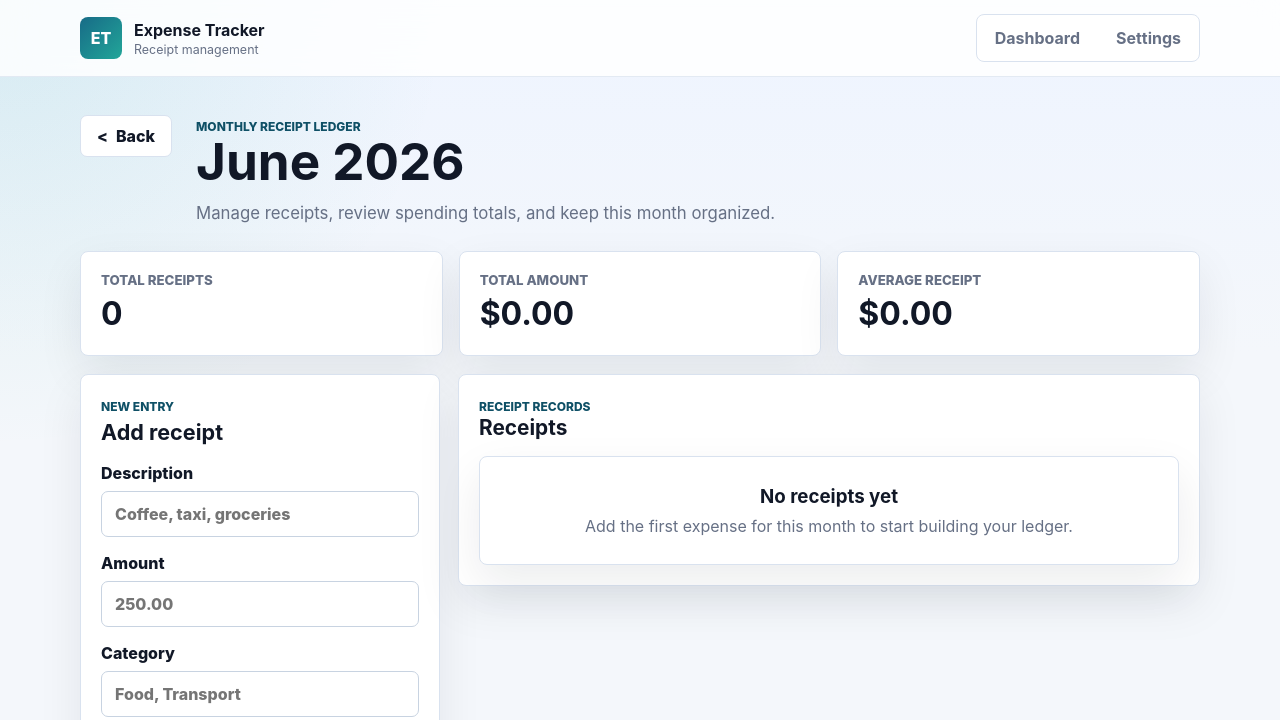
Test case: Adding a receipt updates UI via mocked API
Expected: the text "Manage receipts" is shown, x1=196 y1=203 x2=775 y2=223
Type "Lunch" into the field labelled "Description" at (260, 514), box x1=101 y1=491 x2=419 y2=537
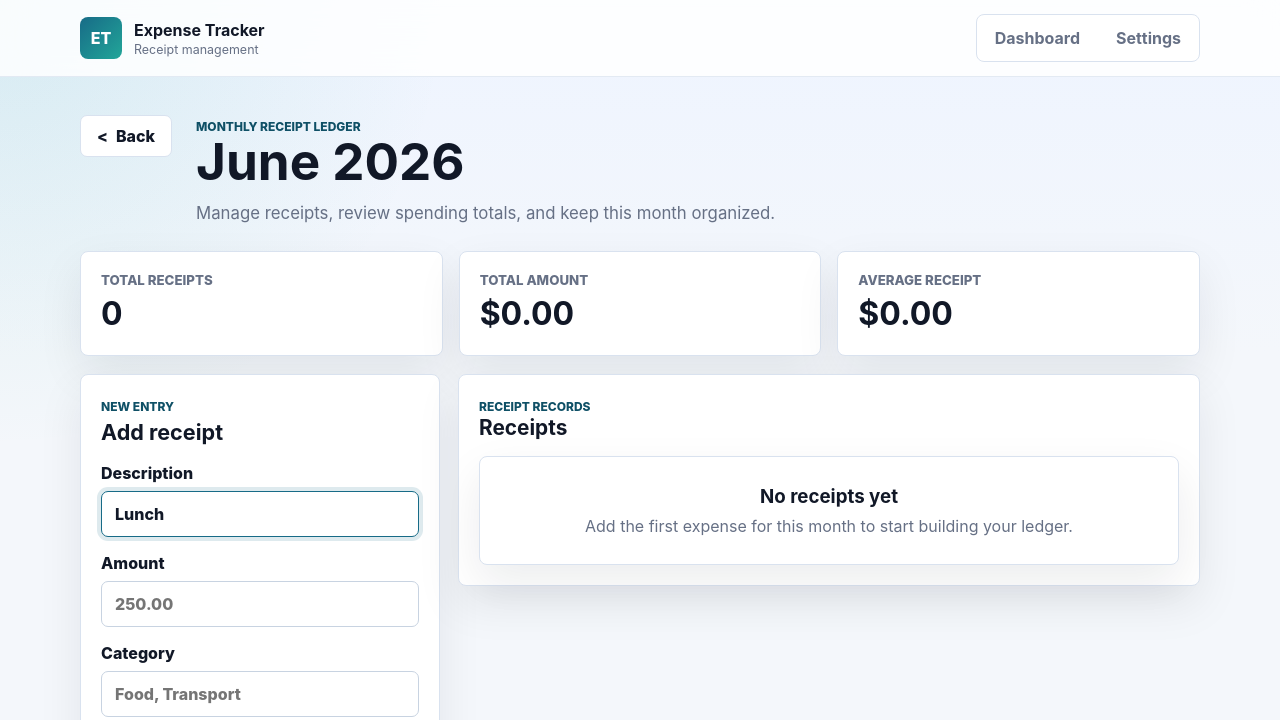
Type "12" into the number field labelled "Amount" at (260, 604), box x1=101 y1=581 x2=419 y2=627
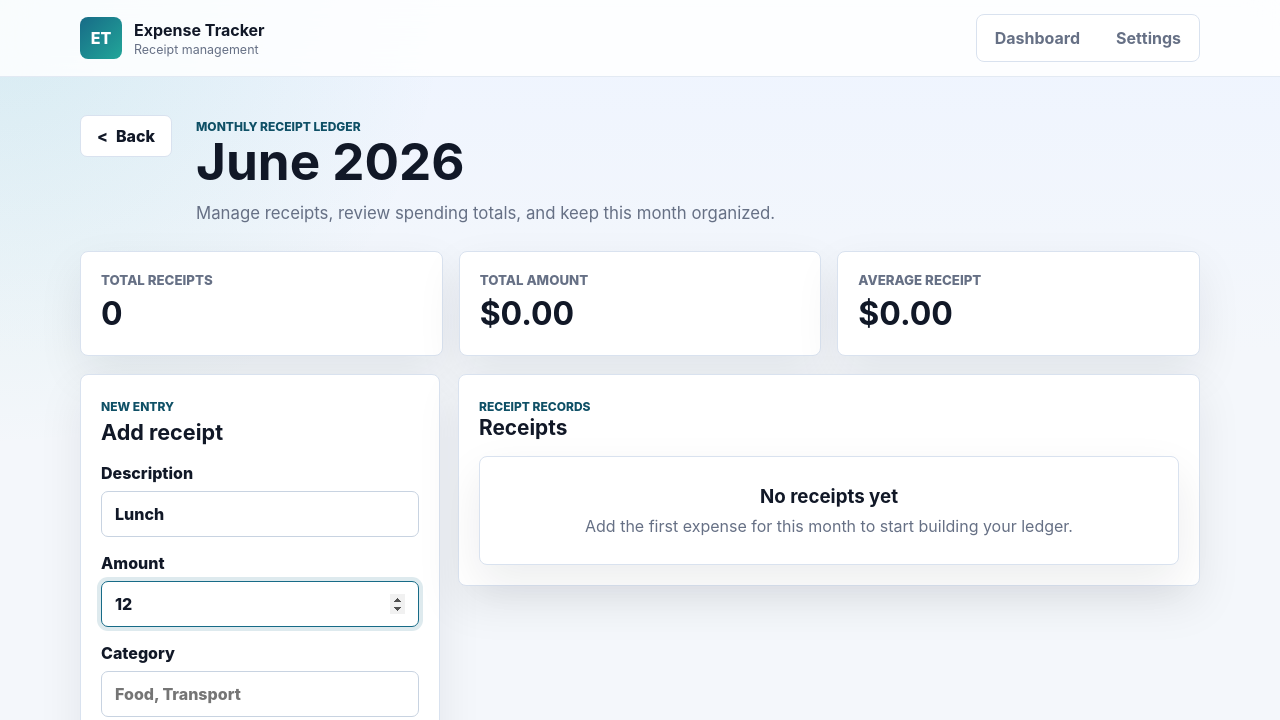
Type "Food" into the field labelled "Category" at (260, 694), box x1=101 y1=671 x2=419 y2=717
(page scrolled)
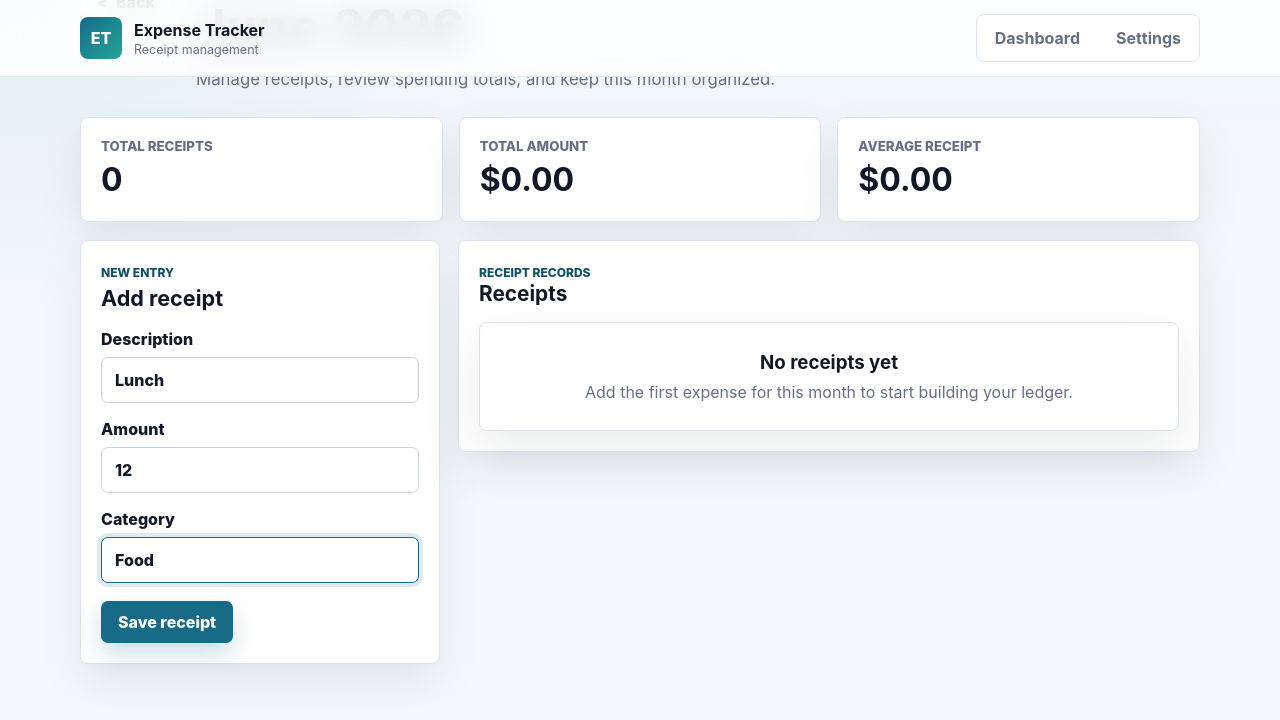
Click the button "Save receipt" at (167, 622), box x1=101 y1=601 x2=233 y2=643
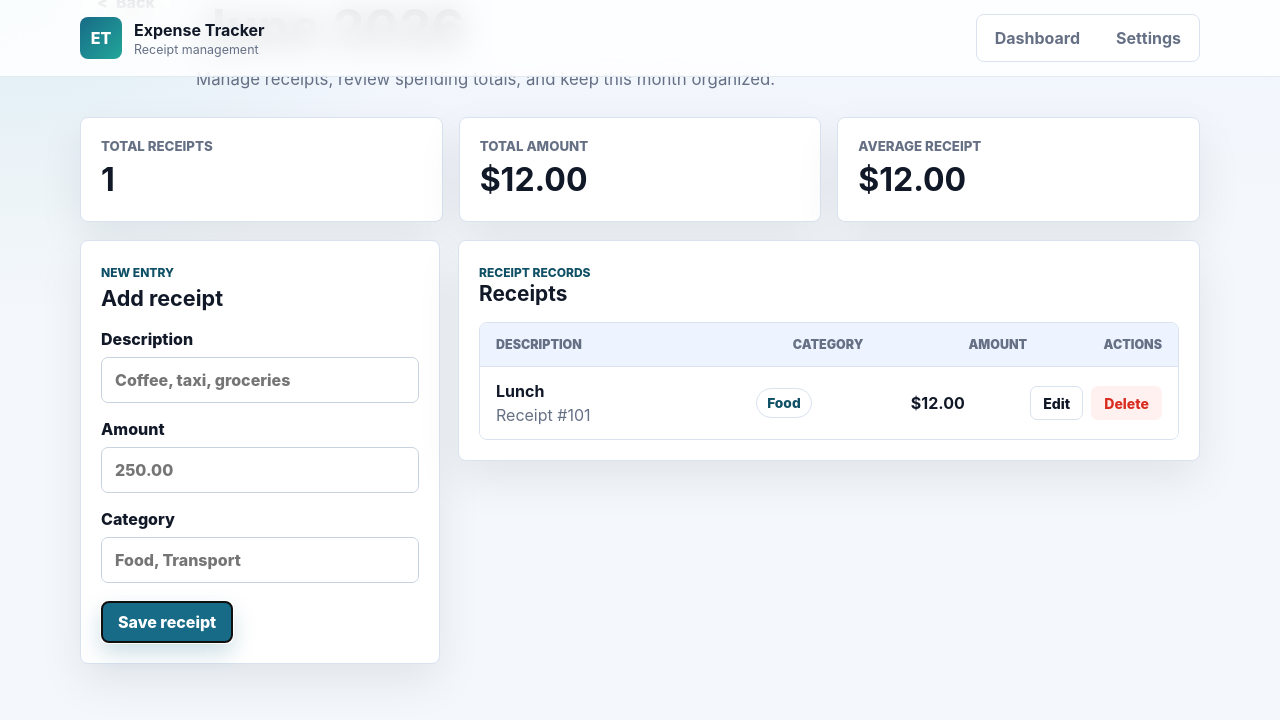
Now the text "Lunch Receipt #101 Food $12.00 Edit Delete" is shown, box x1=480 y1=366 x2=1178 y2=439
Now the text "$12.00" next to "Food" is shown, box x1=911 y1=393 x2=965 y2=413
